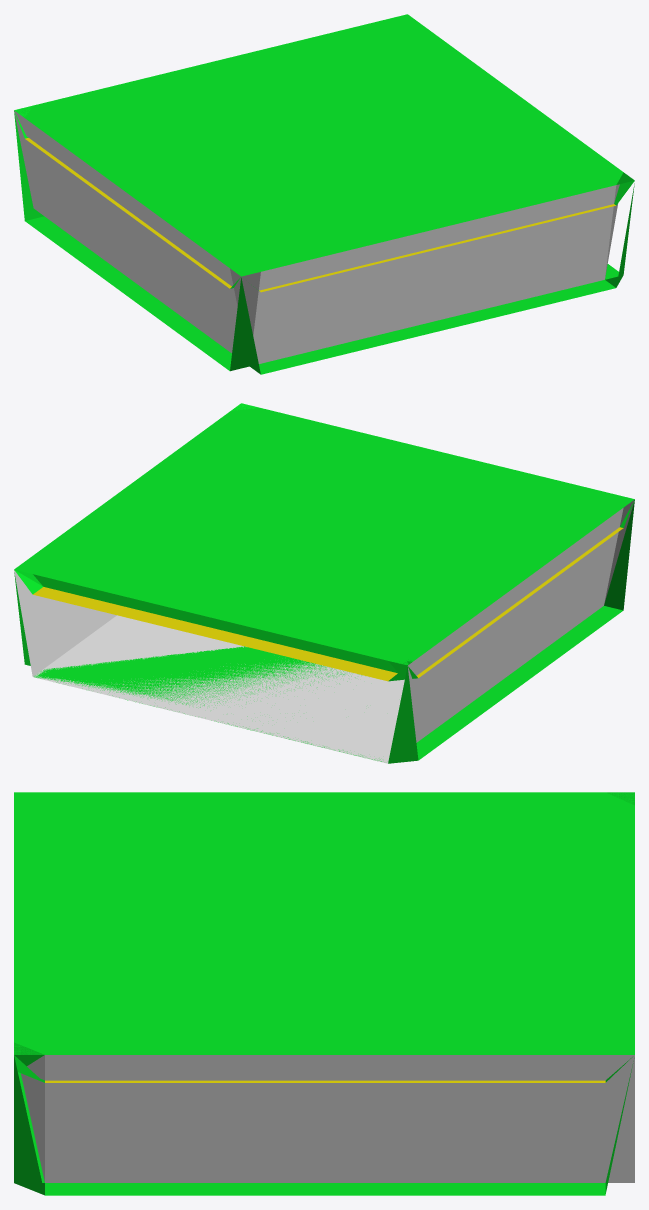
The model's file is ExteriorMap.fbx.
3 views of the same model, one above another, from view 1: azimuth 30°, elevation 25°; view 2: azimuth 150°, elevation 25°; view 3: azimuth 270°, elevation 25° (orthographic). The views are drawn at different scales.
Visible parts, largest first — view 1: Grass, Water_E, Water_X, Camino_X, Camino_T; view 2: Grass, Water_E, Water_X, Camino_E, Camino_O, Camino_X; view 3: Grass, Water_E, Water_X, Camino_T.
Boxes of the visible parts, x1,y1,x2,y2 form: Grass: (14, 14, 623, 276); Water_E: (14, 110, 619, 363); Water_X: (14, 111, 634, 374); Camino_X: (15, 113, 615, 290); Camino_T: (259, 204, 613, 292); Grass: (14, 403, 634, 664); Water_E: (14, 499, 634, 763); Water_X: (14, 500, 634, 763); Camino_E: (14, 403, 397, 681); Camino_O: (14, 569, 411, 673); Camino_X: (388, 500, 634, 681); Grass: (14, 792, 634, 1054); Water_E: (21, 1055, 634, 1182); Water_X: (14, 1056, 634, 1195); Camino_T: (14, 1055, 632, 1082).
Size of the model in its own units: 200 by 50 by 200.
